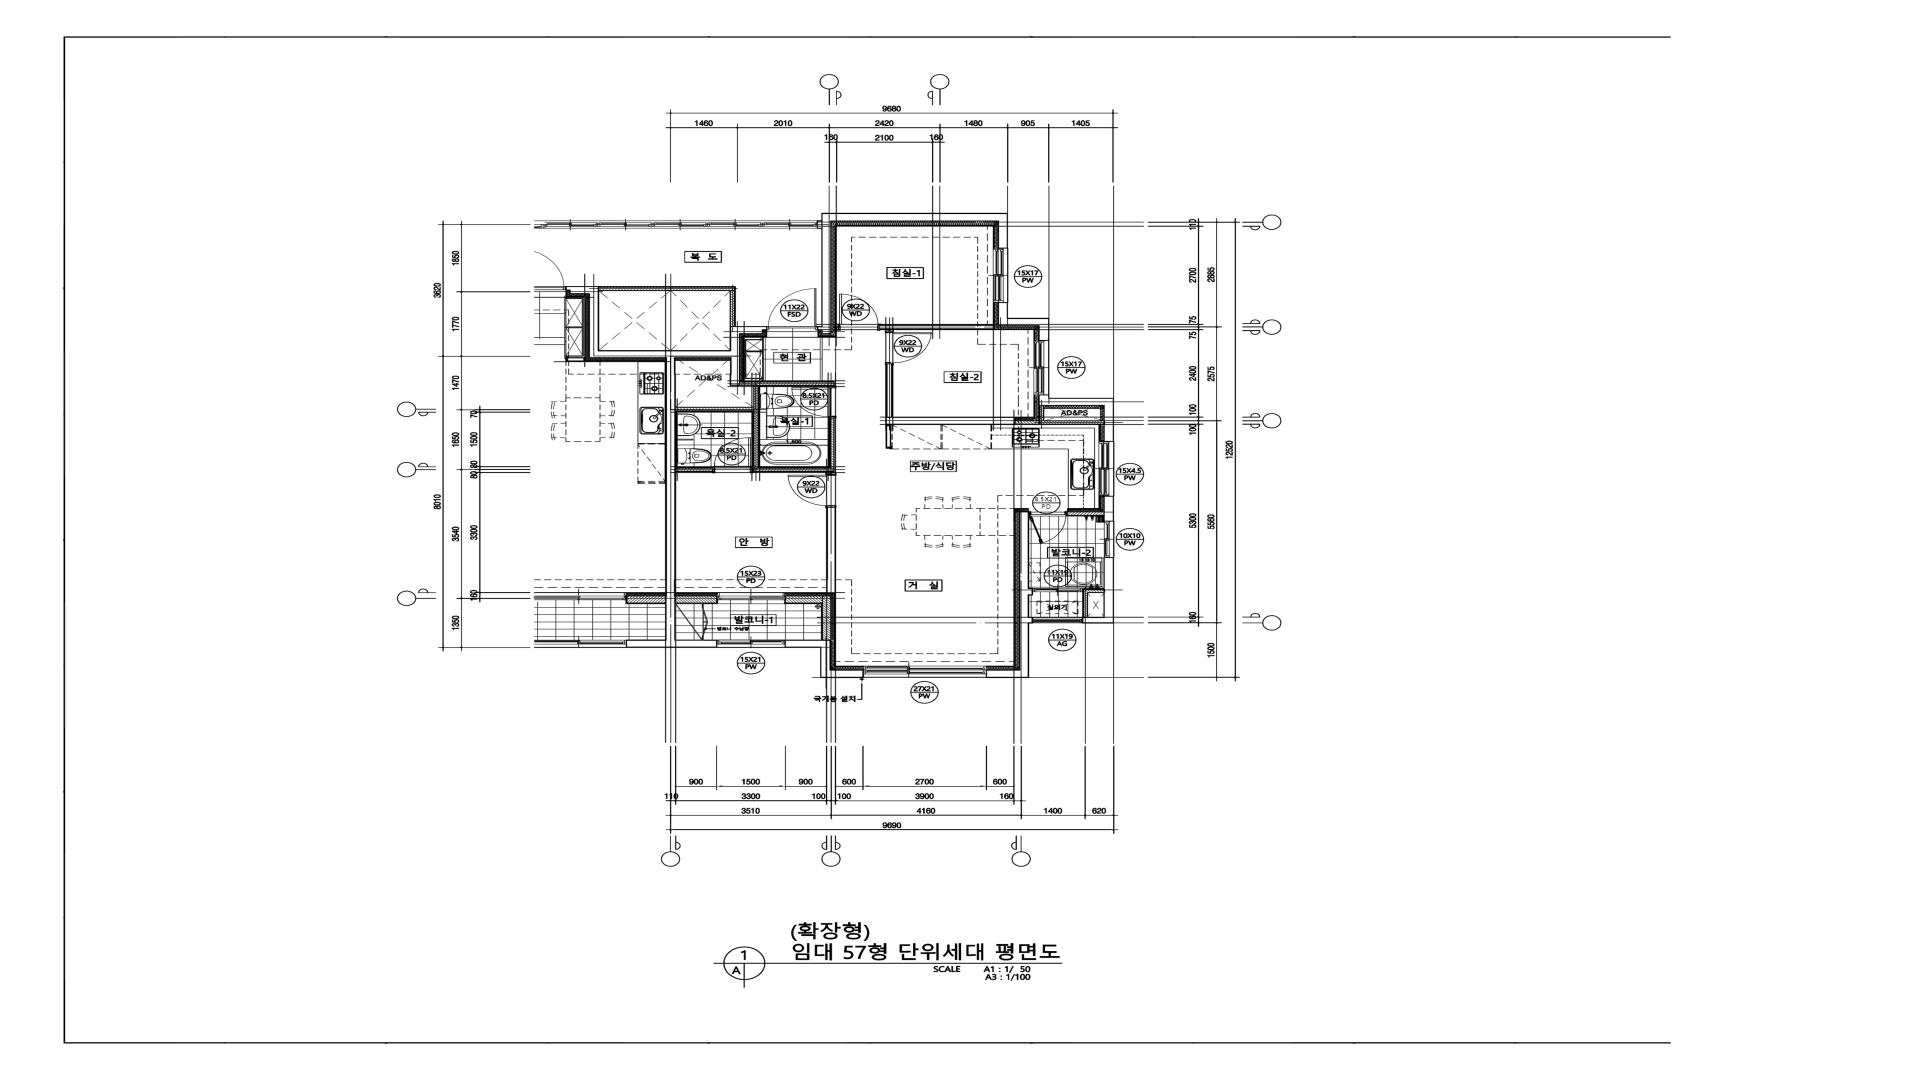door: (767, 289, 818, 330), (787, 472, 836, 508), (885, 330, 932, 364), (836, 294, 880, 331), (712, 438, 753, 473), (791, 386, 835, 418), (533, 251, 566, 290), (1029, 510, 1067, 543)
wall: (566, 286, 767, 647), (818, 212, 1007, 334), (675, 381, 836, 473), (885, 364, 1015, 425), (986, 512, 1033, 678), (599, 286, 736, 326), (1038, 394, 1114, 442), (785, 640, 864, 678), (1083, 558, 1114, 624), (997, 302, 1050, 340), (785, 596, 831, 640), (1015, 406, 1104, 425), (825, 508, 836, 593), (1083, 588, 1104, 617), (880, 324, 994, 330), (676, 596, 717, 604), (1104, 496, 1114, 521), (676, 467, 713, 473), (885, 425, 891, 448), (1067, 512, 1104, 516)
window: (534, 220, 822, 228), (864, 666, 986, 678), (1033, 340, 1050, 394), (1098, 442, 1114, 496), (993, 248, 1009, 302), (717, 592, 785, 604), (717, 640, 785, 647), (1104, 521, 1114, 558), (1033, 617, 1083, 624), (1033, 588, 1083, 592)
